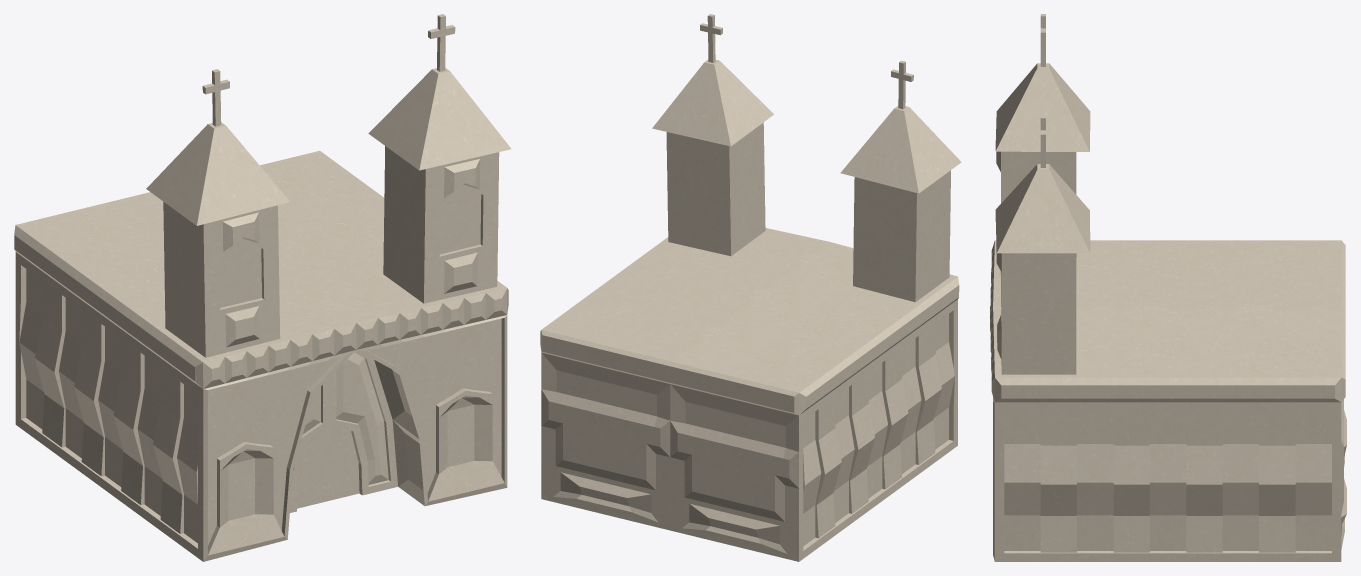
The model's file is Church.fbx.
3 renders of one model, left to right at view 1: azimuth 30°, elevation 25°; view 2: azimuth 150°, elevation 25°; view 3: azimuth 270°, elevation 25°, orthographic. The views are drawn at different scales.
Visible parts, largest first — view 1: Church; view 2: Church; view 3: Church.
Part boxes in pixels (bbox=[...]): Church: bbox=[14, 14, 511, 561]; Church: bbox=[540, 14, 961, 561]; Church: bbox=[990, 14, 1346, 561].
Size of the model in its own units: 8321 by 11648 by 8817.
Materials: 1 (1 with a texture image).
